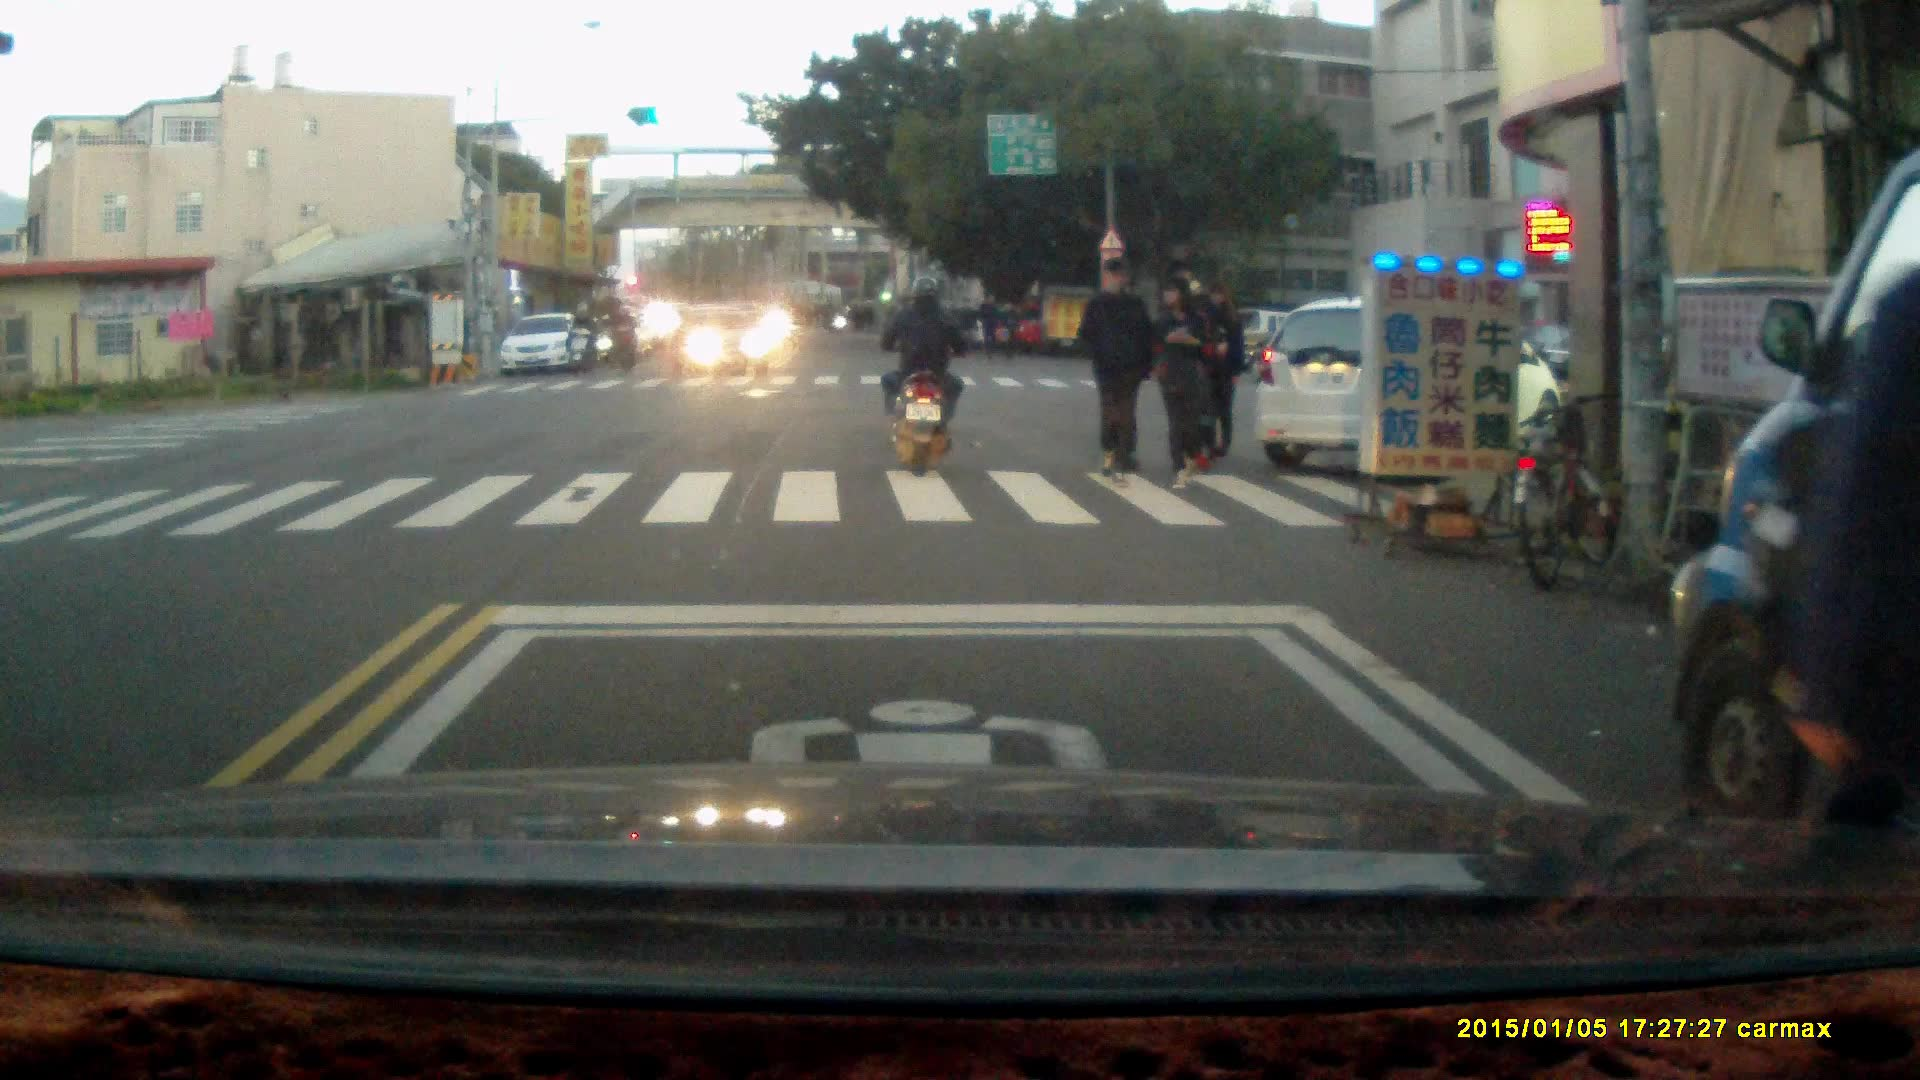pedestrian: (1778, 249, 1919, 881), (1075, 254, 1154, 488), (1150, 271, 1218, 491), (1201, 282, 1250, 463), (975, 289, 1000, 363), (996, 296, 1020, 365)
rider: (881, 269, 967, 477), (564, 298, 595, 374), (608, 298, 639, 370)
vehicle: (1665, 153, 1920, 860), (1257, 303, 1566, 471), (665, 306, 776, 380), (505, 309, 598, 374)
